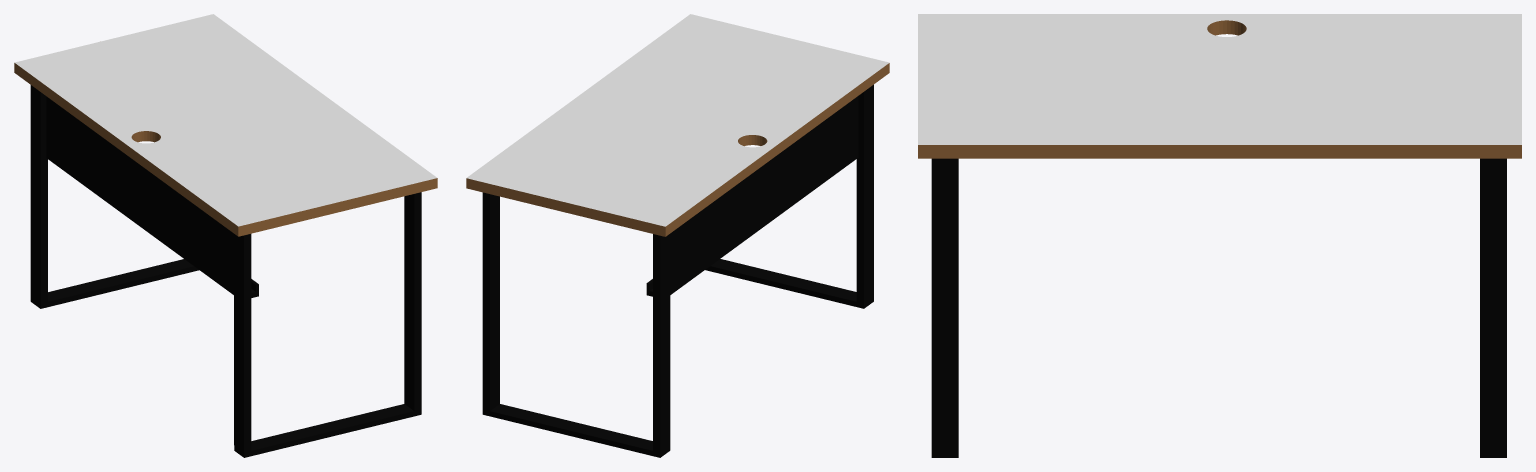
Rendered from mesa-concolorTP14-3.fbx.
3 renders of one model, left to right at view 1: azimuth 30°, elevation 25°; view 2: azimuth 150°, elevation 25°; view 3: azimuth 270°, elevation 25°, orthographic. The views are drawn at different scales.
Parts seen in each view (by area): view 1: Cube.003, Cube.006, Cube.009, Cube.008, Cube.007; view 2: Cube.003, Cube.006, Cube.007, Cube.008, Cube.009; view 3: Cube.003, Cube.009, Cube.007.
Boxes of the visible parts, bbox=[...] form: Cube.003: bbox=[14, 14, 437, 236]; Cube.006: bbox=[30, 85, 258, 303]; Cube.009: bbox=[234, 192, 421, 457]; Cube.008: bbox=[234, 234, 251, 452]; Cube.007: bbox=[30, 259, 199, 308]; Cube.003: bbox=[466, 14, 889, 236]; Cube.006: bbox=[646, 96, 858, 452]; Cube.007: bbox=[482, 192, 670, 457]; Cube.008: bbox=[856, 84, 873, 303]; Cube.009: bbox=[705, 259, 873, 308]; Cube.003: bbox=[918, 14, 1521, 158]; Cube.009: bbox=[931, 158, 958, 457]; Cube.007: bbox=[1480, 158, 1506, 457].
Size of the model in its own units: 747 by 852 by 1456.
